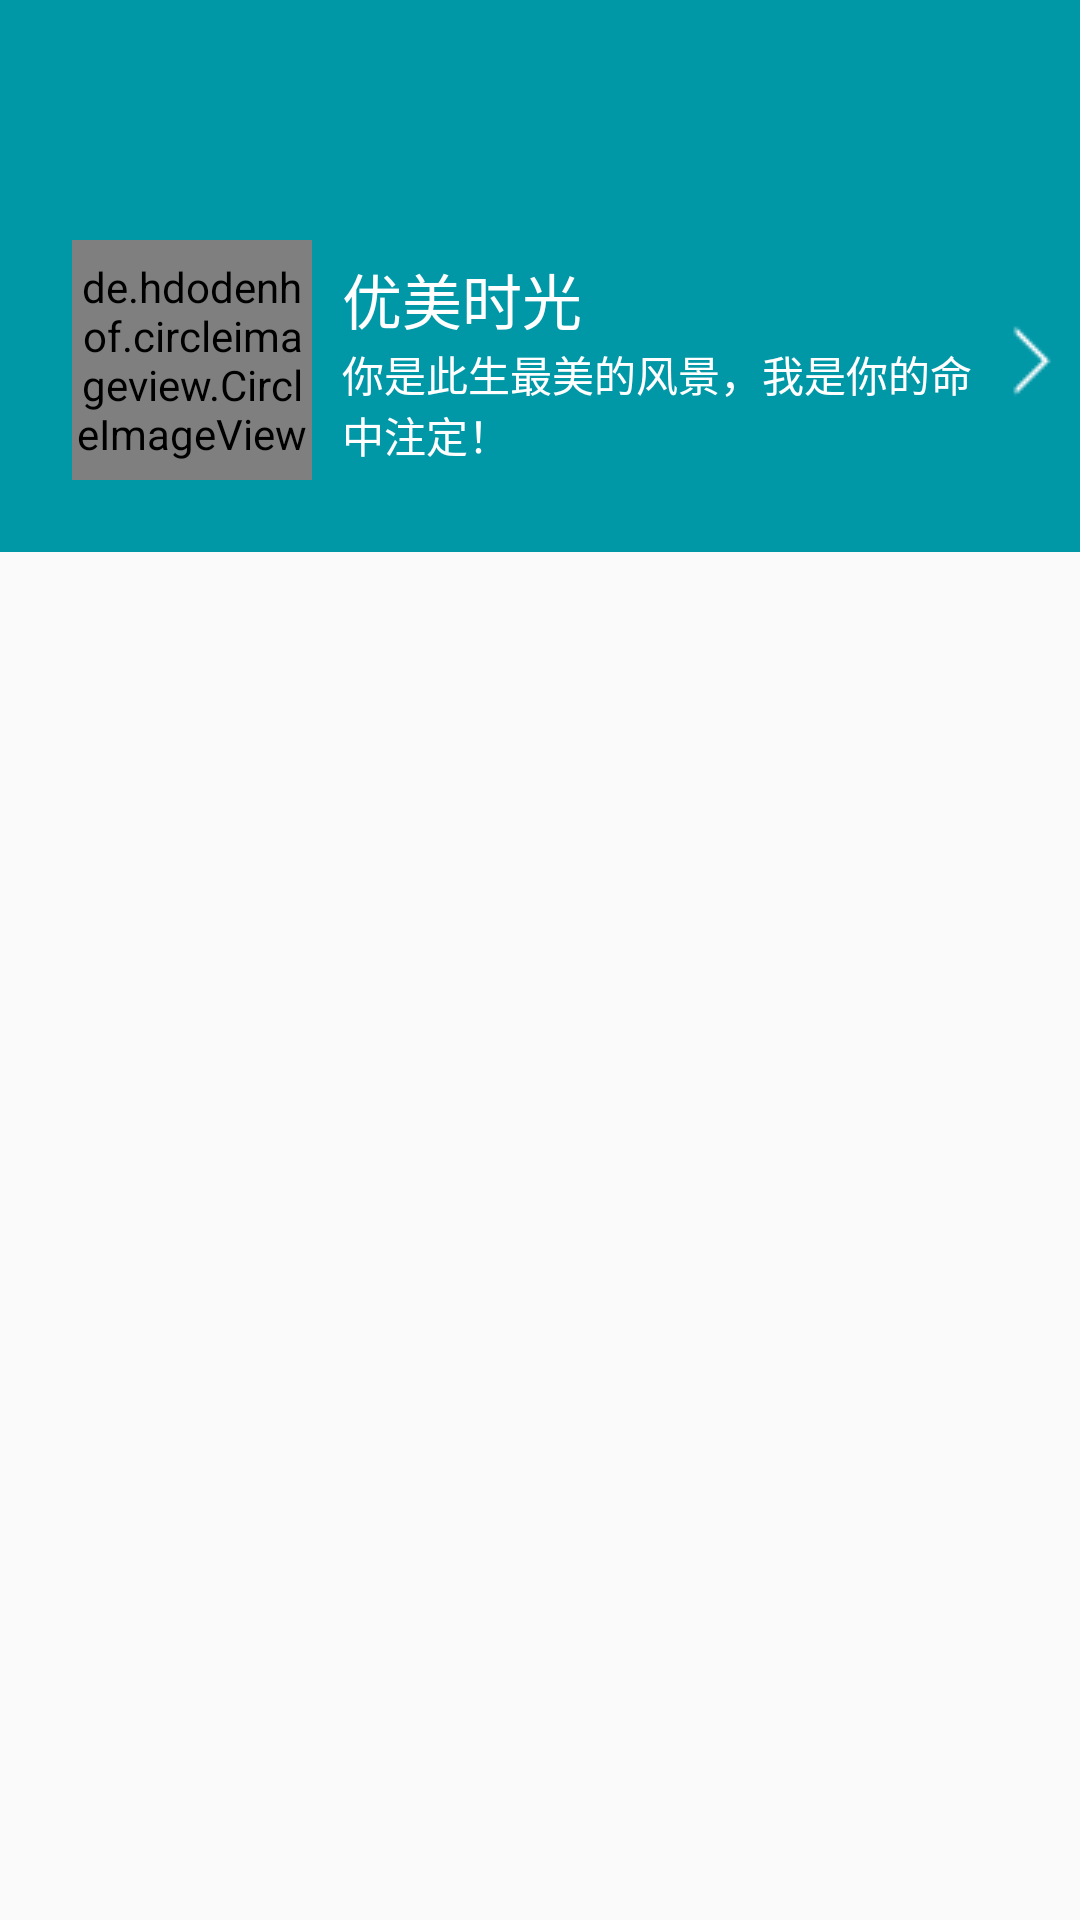

Named icons in this screenshot (1080px×1920px) and their bounding boxes, rect(x1, y1, x2, y2):
arrow right: rect(1013, 326, 1051, 394)
